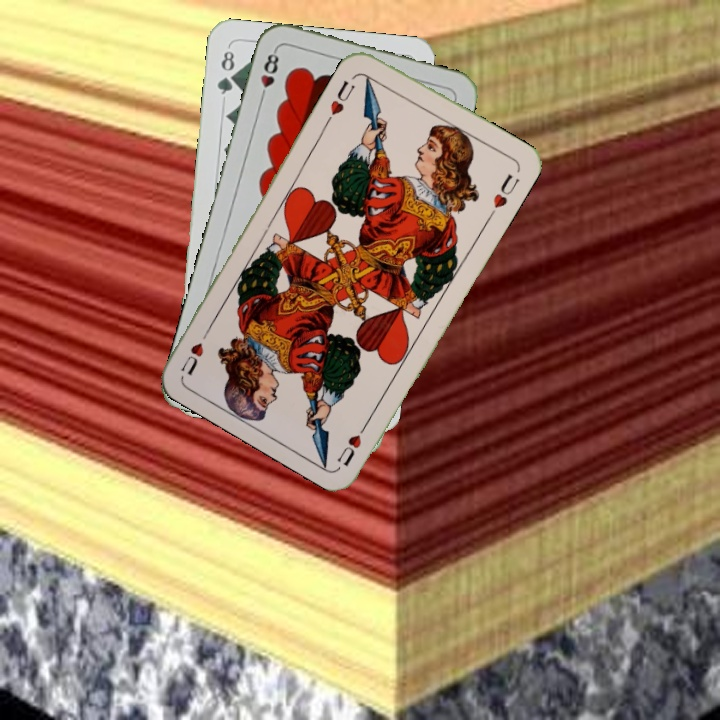G8: (213, 46, 238, 97)
H8: (256, 45, 282, 104)
HU: (333, 415, 373, 469), (323, 76, 358, 124)
